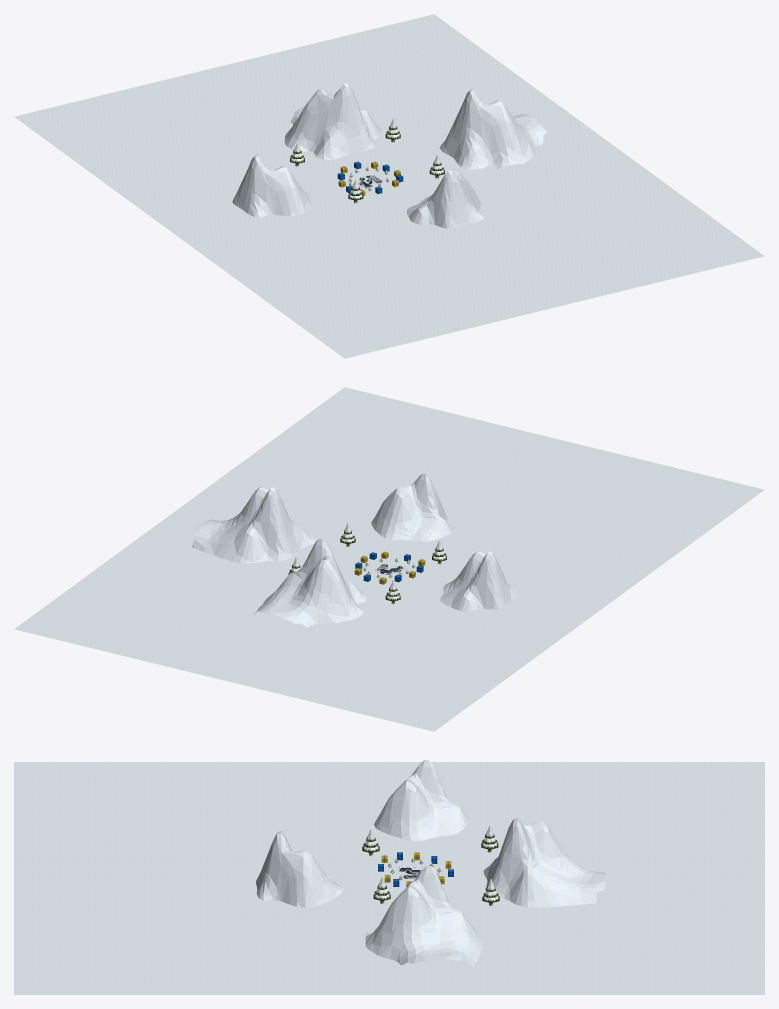
3 renders of one model, top to bottom at view 1: azimuth 30°, elevation 25°; view 2: azimuth 150°, elevation 25°; view 3: azimuth 270°, elevation 25°, orthographic. The views are drawn at different scales.
Visible parts, largest first — view 1: Frosty_Mountains_SKP__Snow, Frosty_Mountains_GRP_11540_Material__27; view 2: Frosty_Mountains_SKP__Snow, Frosty_Mountains_GRP_11540_Material__27; view 3: Frosty_Mountains_SKP__Snow, Frosty_Mountains_GRP_11540_Material__27.
Part boxes in pixels (left/top/right/bottom): Frosty_Mountains_SKP__Snow: left=14, top=14, right=764, bottom=358; Frosty_Mountains_GRP_11540_Material__27: left=290, top=118, right=444, bottom=203; Frosty_Mountains_SKP__Snow: left=14, top=387, right=764, bottom=731; Frosty_Mountains_GRP_11540_Material__27: left=288, top=523, right=446, bottom=604; Frosty_Mountains_SKP__Snow: left=14, top=760, right=764, bottom=994; Frosty_Mountains_GRP_11540_Material__27: left=362, top=825, right=499, bottom=905.
Size of the model in its own units: 1067476 by 229539 by 1455193.
10 materials, 10 textured.
